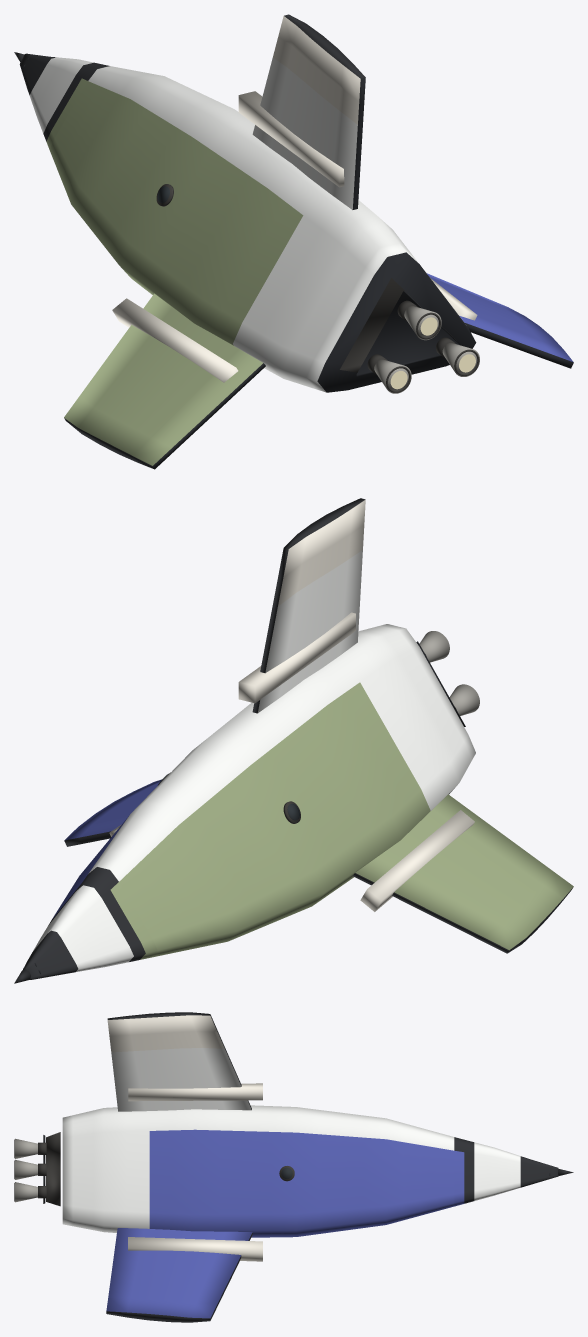
The model's file is Ship_Standard_16.glb.
3 renders of one model, top to bottom at view 1: azimuth 30°, elevation 25°; view 2: azimuth 150°, elevation 25°; view 3: azimuth 270°, elevation 25°, orthographic. The views are drawn at different scales.
Visible parts, largest first — view 1: Fuselage_RoundedTriangleTriFoldBody, Wing_LowerLeft_TriFoldCornerBladePaintedMesh, Wing_Dorsal_TriFoldCornerBladePaintedMesh, Nose_RoundedTriangleTaperedForwardSection, Wing_LowerRight_TriFoldCornerBladePaintedMesh, WingRootSocket_LowerLeft_IntegratedEmbeddedShoulder, EngineBlock_AftTriFoldTrimFrame, WingRootSocket_Dorsal_IntegratedEmbeddedShoulder, EngineBlock_AftTriangularIntegratedMountPlate, EngineEmitter, EngineBell_Dorsal_BurnishedNozzle, EngineBell_LowerLeft_BurnishedNozzle (+1 smaller); view 2: Fuselage_RoundedTriangleTriFoldBody, Wing_LowerLeft_TriFoldCornerBladePaintedMesh, Wing_Dorsal_TriFoldCornerBladePaintedMesh, Nose_RoundedTriangleTaperedForwardSection, WingRootSocket_LowerLeft_IntegratedEmbeddedShoulder, WingRootSocket_Dorsal_IntegratedEmbeddedShoulder, Wing_LowerRight_TriFoldCornerBladePaintedMesh, EngineBell_LowerLeft_BurnishedNozzle, EngineBell_Dorsal_BurnishedNozzle; view 3: Fuselage_RoundedTriangleTriFoldBody, Wing_Dorsal_TriFoldCornerBladePaintedMesh, Wing_LowerRight_TriFoldCornerBladePaintedMesh, Nose_RoundedTriangleTaperedForwardSection, WingRootSocket_LowerRight_IntegratedEmbeddedShoulder, WingRootSocket_Dorsal_IntegratedEmbeddedShoulder, EngineBlock_AftTriangularIntegratedMountPlate.
Part boxes in pixels (x1,y1,x2,y2): Fuselage_RoundedTriangleTriFoldBody: (49,66,476,392); Wing_LowerLeft_TriFoldCornerBladePaintedMesh: (64,293,265,469); Wing_Dorsal_TriFoldCornerBladePaintedMesh: (252,14,365,209); Nose_RoundedTriangleTaperedForwardSection: (19,53,109,149); Wing_LowerRight_TriFoldCornerBladePaintedMesh: (427,273,573,368); WingRootSocket_LowerLeft_IntegratedEmbeddedShoulder: (112,298,238,382); EngineBlock_AftTriFoldTrimFrame: (356,291,460,376); WingRootSocket_Dorsal_IntegratedEmbeddedShoulder: (238,91,344,187); EngineBlock_AftTriangularIntegratedMountPlate: (340,278,456,372); EngineEmitter: (390,317,475,389); EngineBell_Dorsal_BurnishedNozzle: (404,306,441,340); EngineBell_LowerLeft_BurnishedNozzle: (374,359,411,393); Fuselage_RoundedTriangleTriFoldBody: (55,624,475,957); Wing_LowerLeft_TriFoldCornerBladePaintedMesh: (352,794,573,953); Wing_Dorsal_TriFoldCornerBladePaintedMesh: (252,498,365,713); Nose_RoundedTriangleTaperedForwardSection: (23,867,157,979); WingRootSocket_LowerLeft_IntegratedEmbeddedShoulder: (360,810,474,911); WingRootSocket_Dorsal_IntegratedEmbeddedShoulder: (238,612,355,703); Wing_LowerRight_TriFoldCornerBladePaintedMesh: (64,779,161,846); EngineBell_LowerLeft_BurnishedNozzle: (449,684,479,715); EngineBell_Dorsal_BurnishedNozzle: (419,631,449,662); Fuselage_RoundedTriangleTriFoldBody: (62,1105,454,1237); Wing_Dorsal_TriFoldCornerBladePaintedMesh: (107,1012,251,1111); Wing_LowerRight_TriFoldCornerBladePaintedMesh: (106,1228,252,1322); Nose_RoundedTriangleTaperedForwardSection: (454,1137,558,1206); WingRootSocket_LowerRight_IntegratedEmbeddedShoulder: (128,1237,262,1261); WingRootSocket_Dorsal_IntegratedEmbeddedShoulder: (128,1083,262,1101); EngineBlock_AftTriangularIntegratedMountPlate: (46,1132,60,1206).
Bounding box in the file's own units: 4.7 × 3.58 × 7.62.
